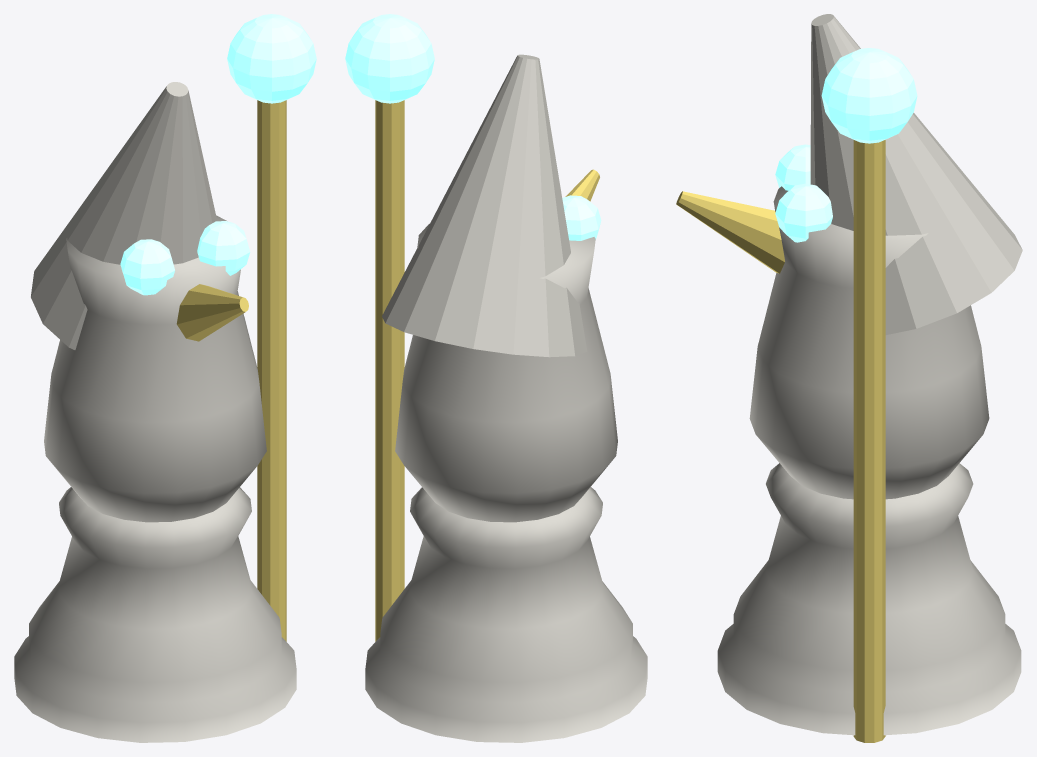
The model's file is bishop_w.glb.
The picture shows the model from 3 angles, left to right: view 1: azimuth 30°, elevation 25°; view 2: azimuth 150°, elevation 25°; view 3: azimuth 270°, elevation 25°; orthographic projection. The views are drawn at different scales.
Visible parts, largest first — view 1: Bishop_Base, Bishop_Robe, Hình Nón.116, Hình Trụ.010, Hình Cầu.060, Hình Nón.117, Hình Cầu.058, Hình Cầu.059; view 2: Bishop_Base, Bishop_Robe, Hình Nón.116, Hình Trụ.010, Hình Cầu.060, Hình Cầu.058, Hình Nón.117; view 3: Bishop_Base, Bishop_Robe, Hình Nón.116, Hình Trụ.010, Hình Cầu.060, Hình Nón.117, Hình Cầu.059, Hình Cầu.058.
Boxes of the visible parts, x1,y1,x2,y2 form: Bishop_Base: (14, 487, 296, 742); Bishop_Robe: (44, 215, 266, 522); Hình Nón.116: (31, 82, 217, 349); Hình Trụ.010: (257, 100, 286, 641); Hình Cầu.060: (227, 14, 316, 103); Hình Nón.117: (176, 284, 248, 341); Hình Cầu.058: (120, 239, 174, 295); Hình Cầu.059: (197, 221, 250, 275); Bishop_Base: (365, 487, 647, 742); Bishop_Robe: (395, 223, 617, 522); Hình Nón.116: (382, 54, 587, 357); Hình Trụ.010: (375, 100, 404, 641); Hình Cầu.060: (345, 14, 434, 103); Hình Cầu.058: (562, 195, 601, 240); Hình Nón.117: (565, 169, 599, 201); Bishop_Base: (717, 463, 1021, 735); Bishop_Robe: (749, 186, 989, 499); Hình Nón.116: (810, 14, 1022, 334); Hình Trụ.010: (853, 140, 885, 742); Hình Cầu.060: (821, 48, 917, 143); Hình Nón.117: (676, 191, 784, 273); Hình Cầu.059: (775, 183, 832, 242); Hình Cầu.058: (775, 144, 810, 190).
Bounding box in the file's own units: 0.43 × 0.945 × 0.4339.
